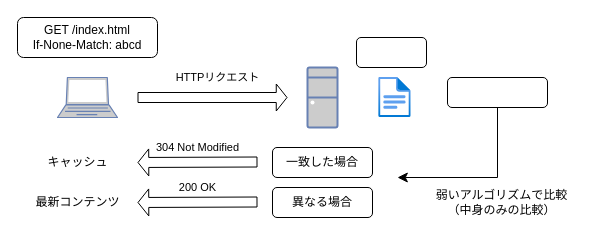
This 594x235 diagram has some shape labels left out. Each missing label, with the centre of its shape:
ETag: XXXX: the point at 497,92
index.html: the point at 391,52
